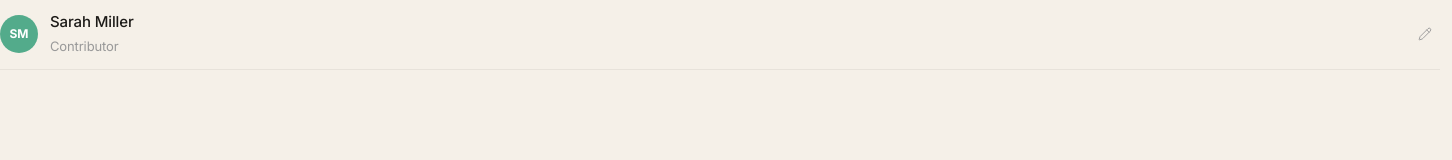
MemberRow (E1) › removes a collaborator only after a calm confirm
This screenshot has width=1452, height=160.
Later steps or results of the test are not shown.
Step 1. Click the button named "manage sarah miller's role" → (1425, 34), box top-left (1410, 19), bottom-right (1440, 49)
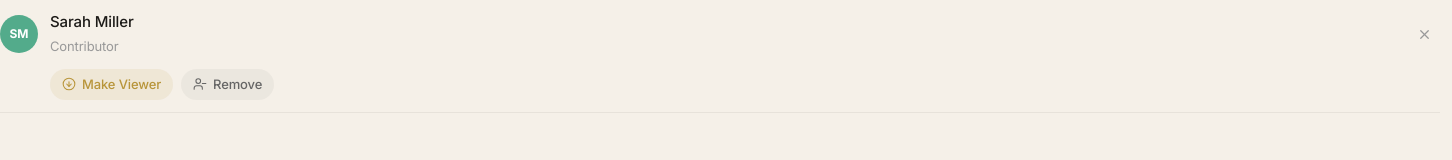
Step 2. Click the button "Remove" → (228, 84), box top-left (181, 69), bottom-right (274, 100)
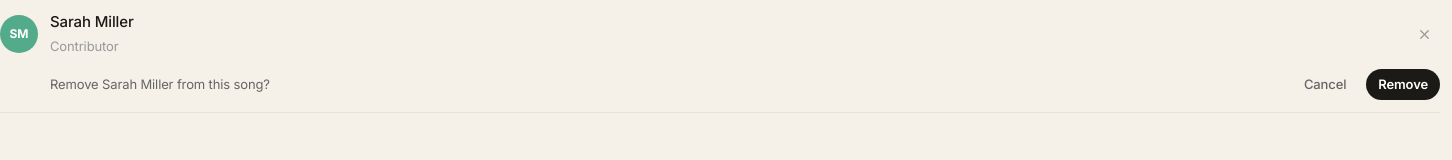
Now the text "Remove Sarah Miller from this song?" is shown, box top-left (50, 75), bottom-right (270, 94)
